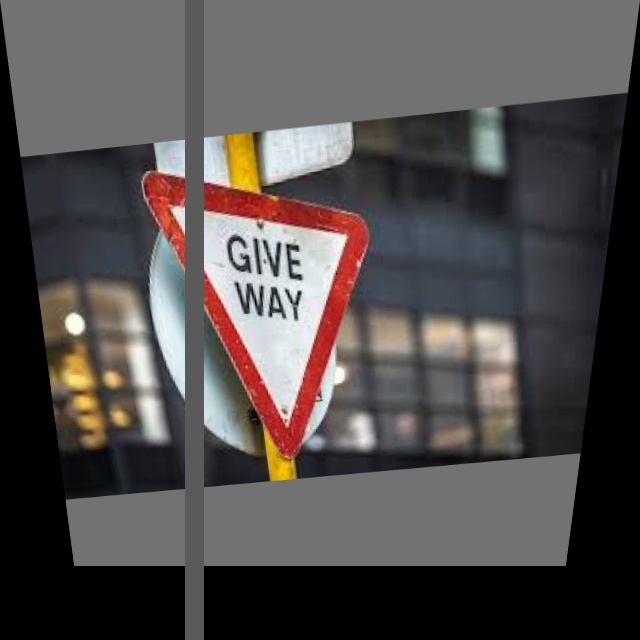Give_Way: (146, 152, 392, 467)
